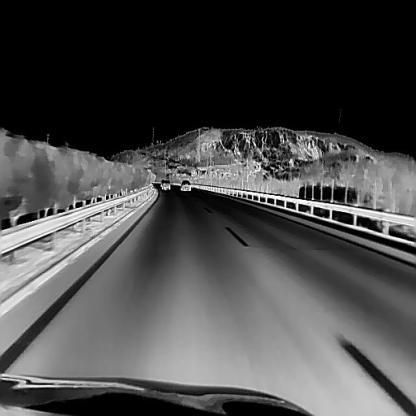car: (180, 179, 191, 190), (161, 178, 170, 189)
